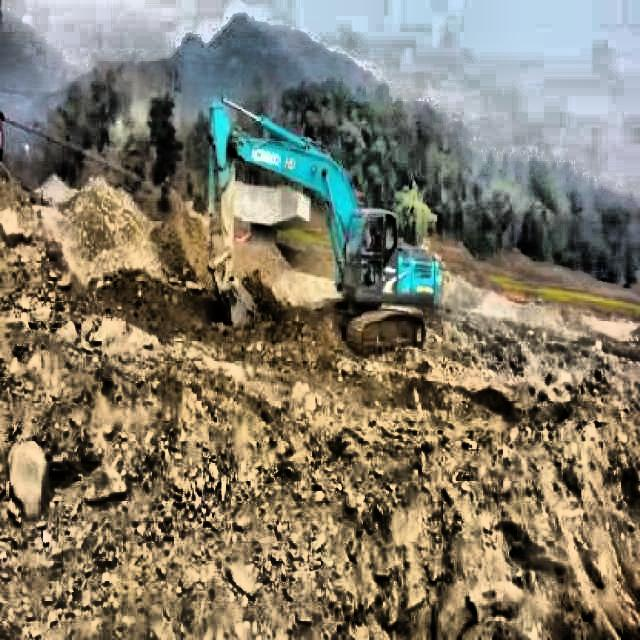excavator: (202, 88, 438, 364)
